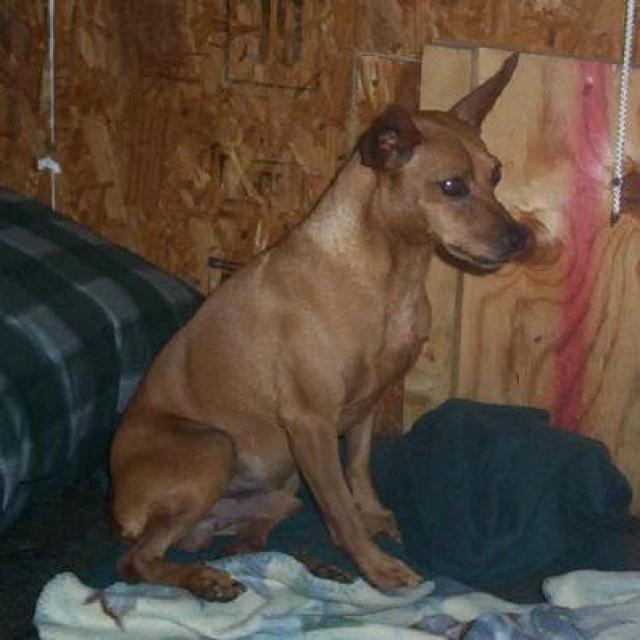Dog: (335, 31, 544, 294)
